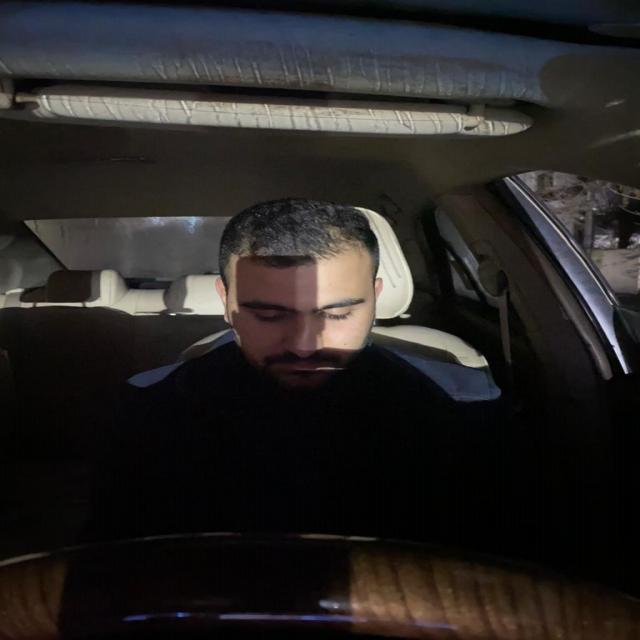drowsy: (210, 195, 392, 403)
